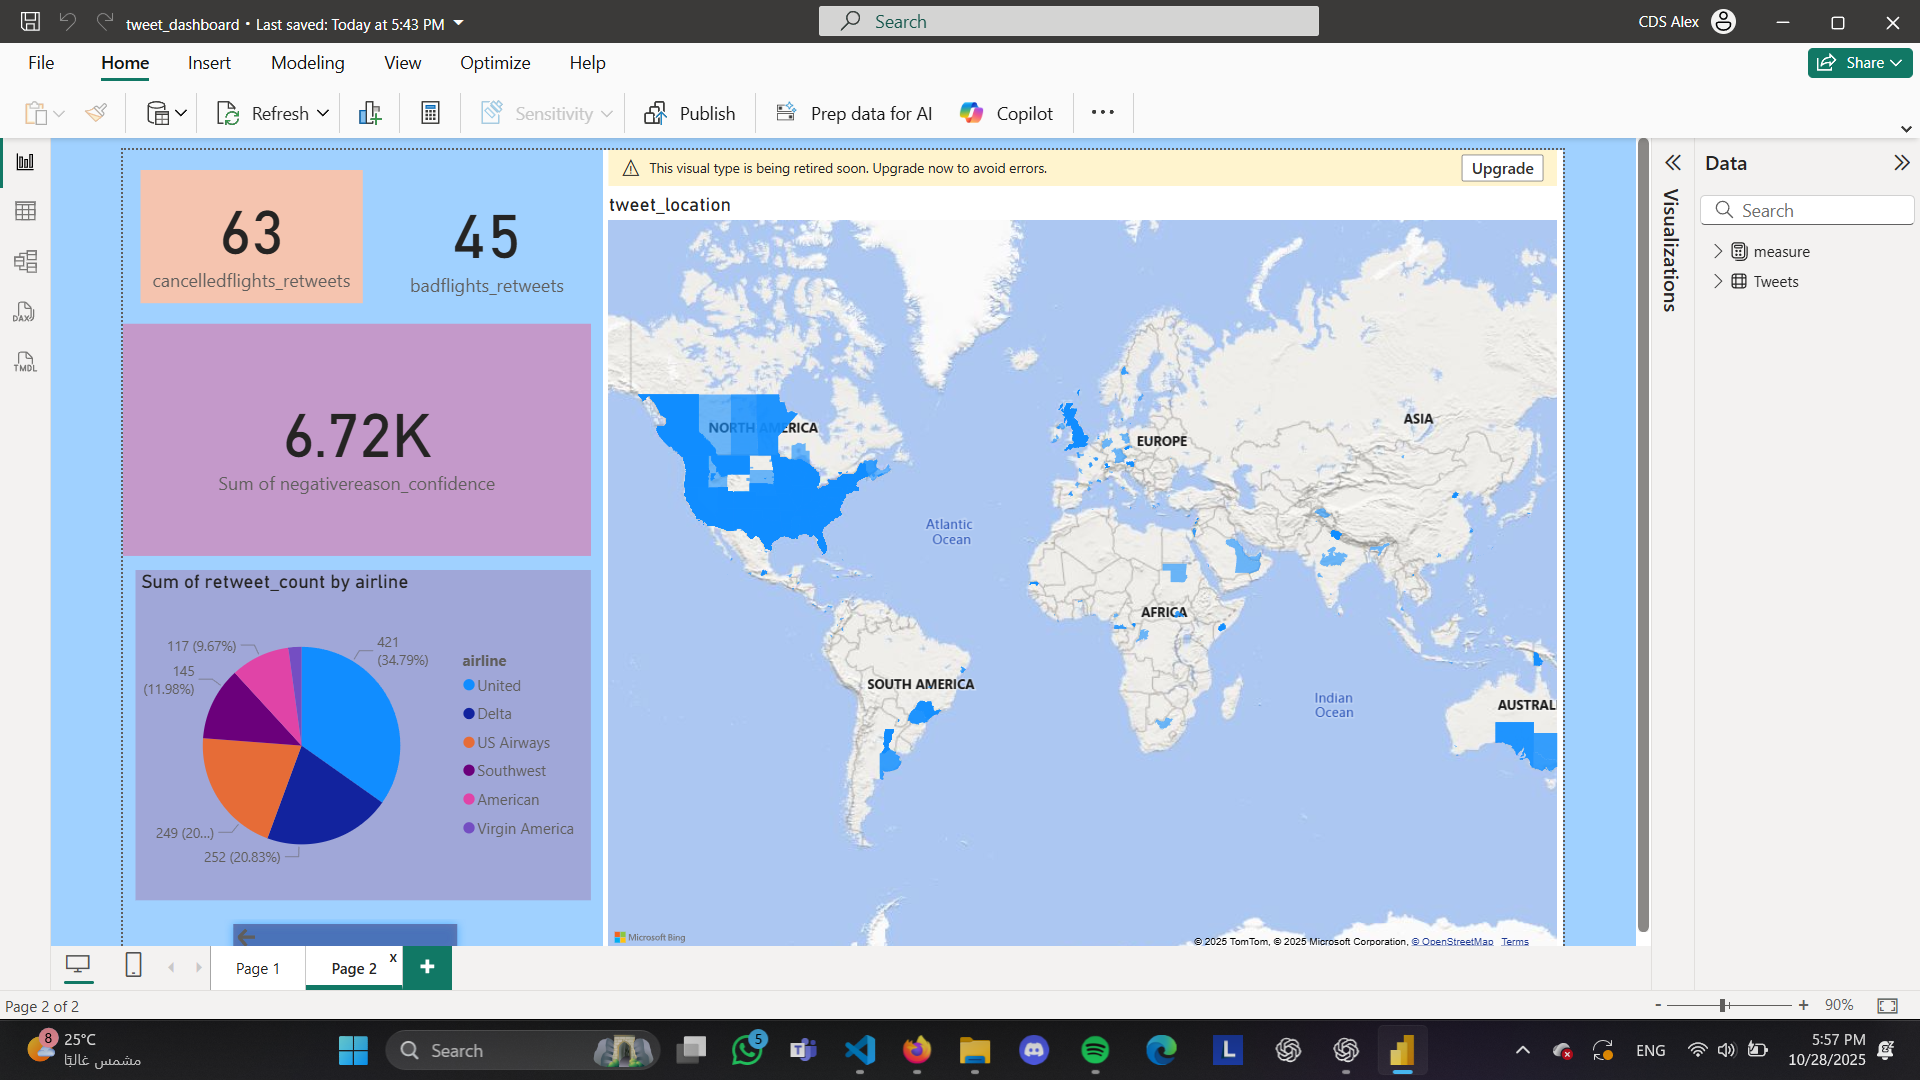

The page's visual inventory and layout, read from the dashboard file:
{"tool":"powerbi","page":{"name":"Page 2","canvas":[1280,720],"ordinal":1},"visuals":[{"type":"card","fields":{"Values":["Sum(Tweets.negativereason_confidence)"]},"box":[0,154.3,416.1,206.2],"z":0},{"type":"pieChart","fields":{"Y":["Sum(Tweets.retweet_count)"],"Category":["Tweets.airline"]},"box":[11,372.8,404.6,293.4],"z":1000},{"type":"filledMap","fields":{"Category":["Tweets.tweet_location"]},"box":[427.2,0,853.1,719.8],"z":2000},{"type":"card","fields":{"Values":["measure.cancelledflights_retweets"]},"box":[16,17.3,197.5,118.5],"z":3000},{"type":"card","fields":{"Values":["measure.badflights_retweets"]},"box":[230.9,17.3,185.2,127.2],"z":4000},{"type":"actionButton","box":[90.5,679.7,215.1,40.3],"z":5000}]}

Visuals, with their boxes on the page's 1280x720 design canvas (x1, y1, x2, y2). These are canvas units, not pixel positions in the 1920x1080 screenshot, which may show the page scaled, cropped or inside an application window:
card - Sum(Tweets.negativereason_confidence): pyautogui.locateOnScreen(0, 154, 416, 360)
pieChart - Sum(Tweets.retweet_count) x Tweets.airline: pyautogui.locateOnScreen(11, 373, 416, 666)
filledMap - Tweets.tweet_location: pyautogui.locateOnScreen(427, 0, 1280, 720)
card - measure.cancelledflights_retweets: pyautogui.locateOnScreen(16, 17, 214, 136)
card - measure.badflights_retweets: pyautogui.locateOnScreen(231, 17, 416, 144)
actionButton: pyautogui.locateOnScreen(90, 680, 306, 720)
